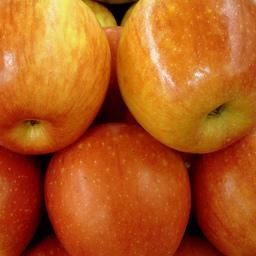apple: (116, 1, 256, 154), (43, 120, 193, 254), (1, 1, 112, 154), (187, 129, 256, 256)
